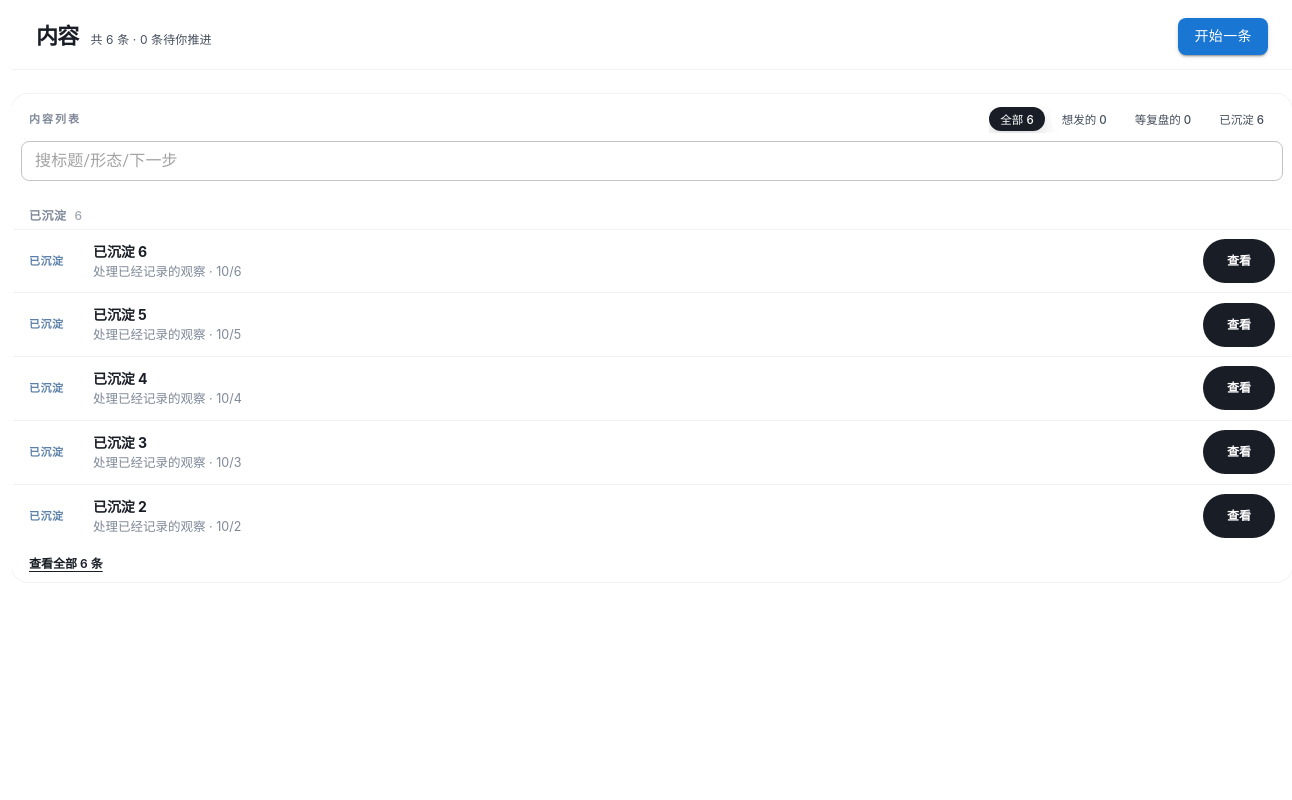
Test: ContentPage › collapses settled list over 5 items and expands on demand
This screenshot has width=1292, height=800.
Expected: the element with test id "group-settled" is shown, [13,196,1291,581]
Expected: the number of elements with test id "project-row" is 5, [13,228,1291,292]; [13,292,1291,356]; [13,356,1291,420]; [13,420,1291,484]; [13,484,1291,547]
What coordinates should you click on to do the following:
click the button "查看全部 6 条"
I would click on:
 (66, 564)
Its box is [13,547,119,581].
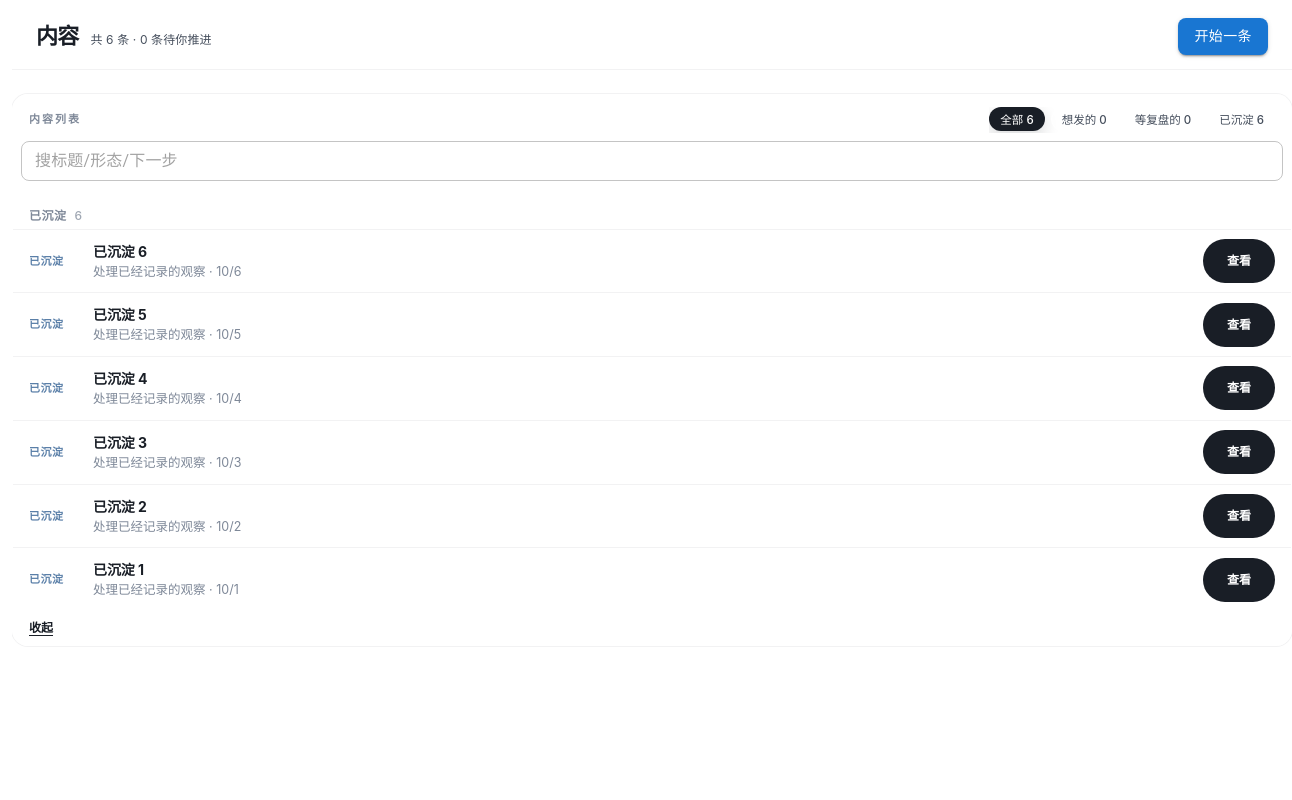
Result: the number of elements with test id "project-row" is 6 at [13,228,1291,292]; [13,292,1291,356]; [13,356,1291,420]; [13,420,1291,484]; [13,484,1291,547]; [13,547,1291,611]
